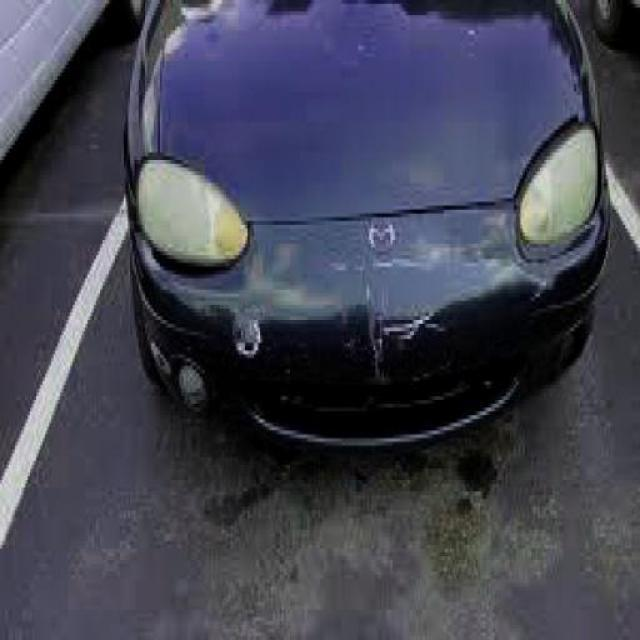car damage: (339, 253, 450, 383), (231, 303, 270, 363)
